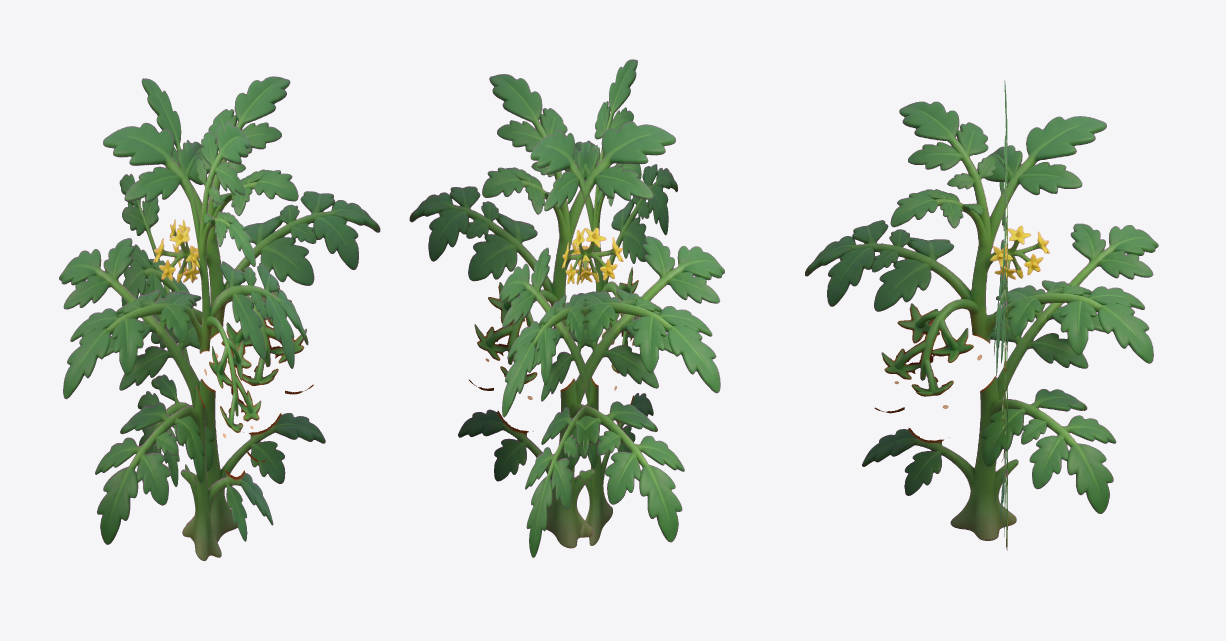
File: plant_tomato_star_a01.glb
3 renders of one model, left to right at view 1: azimuth 30°, elevation 25°; view 2: azimuth 150°, elevation 25°; view 3: azimuth 270°, elevation 25°, orthographic. The views are drawn at different scales.
Visible parts, largest first — view 1: plant_crossed_quads_mesh; view 2: plant_crossed_quads_mesh; view 3: plant_crossed_quads_mesh.
Part boxes in pixels (x1=…): plant_crossed_quads_mesh: x1=59, y1=76, x2=380, y2=560; plant_crossed_quads_mesh: x1=409, y1=59, x2=724, y2=557; plant_crossed_quads_mesh: x1=805, y1=80, x2=1158, y2=550.
Size of the model in its own units: 0.72 by 0.86 by 0.72.
1 material, 1 textured.
